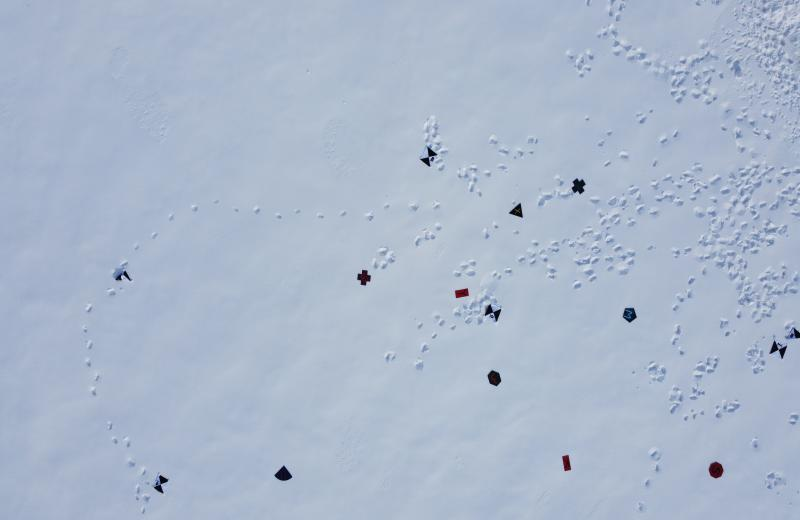Cross: (355, 268, 373, 286), (572, 177, 586, 195)
Hexagon: (486, 370, 503, 386)
Octagon: (708, 461, 725, 480)
Pentagon: (622, 306, 637, 324)
Quarter Circle: (273, 464, 294, 482)
Rectangle: (561, 454, 573, 472), (453, 287, 470, 299)
Triangle: (508, 201, 524, 220)
